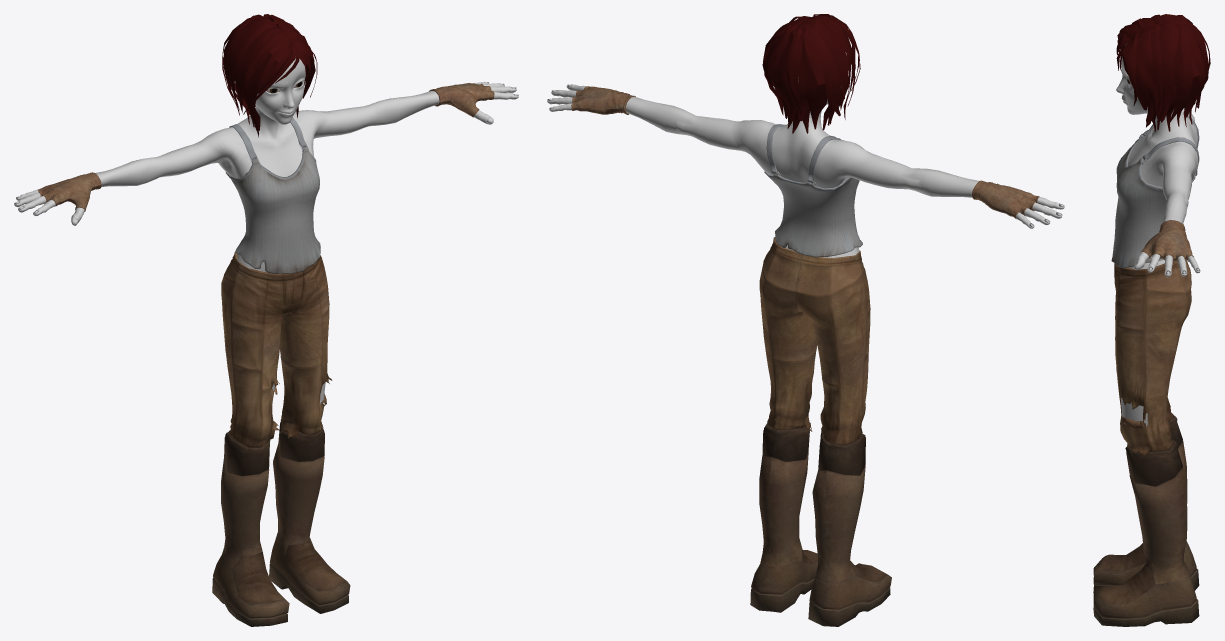
Rendered from Sintel_Lite_257b.obj.
3 views of the same model, side by side, from view 1: azimuth 30°, elevation 25°; view 2: azimuth 150°, elevation 25°; view 3: azimuth 270°, elevation 25° (orthographic). The views are drawn at different scales.
Parts seen in each view (by area): view 1: SINTEL_008, SINTEL_011, SINTEL_002, SINTEL_014, SINTEL_017, SINTEL_007; view 2: SINTEL_008, SINTEL_011, SINTEL_002, SINTEL_017, SINTEL_014, SINTEL_007; view 3: SINTEL_008, SINTEL_011, SINTEL_017, SINTEL_002, SINTEL_014, SINTEL_007, SINTEL_012, SINTEL_013.
Part boxes in pixels (x1,y1,x2,y2): SINTEL_008: [212, 419, 350, 626]; SINTEL_011: [221, 251, 332, 447]; SINTEL_002: [14, 58, 518, 432]; SINTEL_014: [231, 146, 320, 273]; SINTEL_017: [222, 14, 317, 137]; SINTEL_007: [38, 83, 494, 211]; SINTEL_008: [750, 423, 891, 626]; SINTEL_011: [759, 237, 870, 444]; SINTEL_002: [547, 77, 1064, 257]; SINTEL_017: [762, 14, 860, 133]; SINTEL_014: [770, 174, 862, 257]; SINTEL_007: [571, 86, 1039, 218]; SINTEL_008: [1093, 412, 1199, 626]; SINTEL_011: [1114, 259, 1191, 457]; SINTEL_017: [1116, 14, 1210, 131]; SINTEL_002: [1116, 43, 1200, 427]; SINTEL_014: [1111, 133, 1195, 268]; SINTEL_007: [1141, 220, 1193, 262]; SINTEL_012: [1142, 116, 1199, 176]; SINTEL_013: [1124, 133, 1195, 190].
Bounding box in the file's own units: 1.53 × 1.69 × 0.3075.
